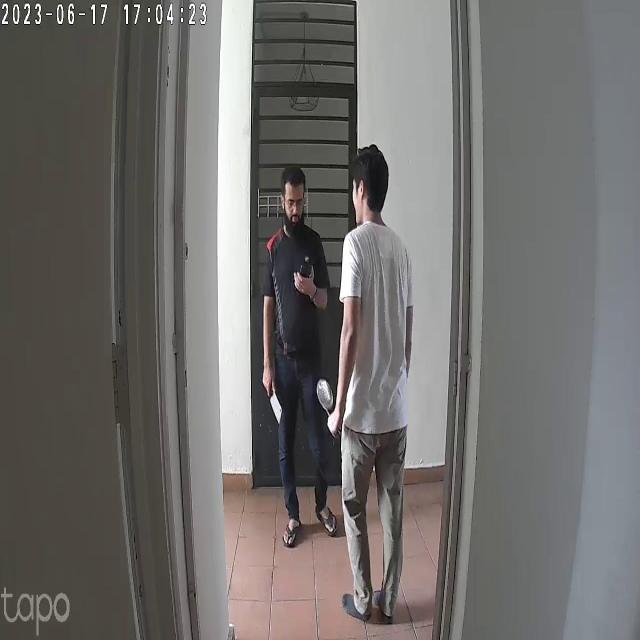Knife: (261, 372, 296, 426)
